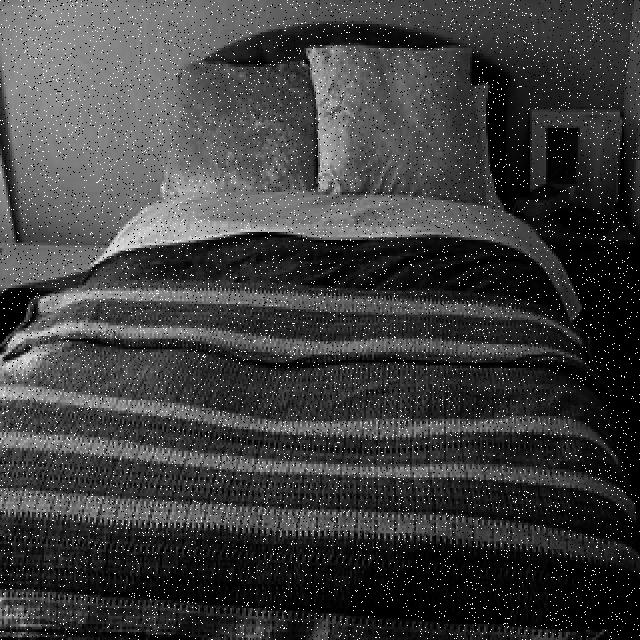bed: (0, 24, 609, 640)
